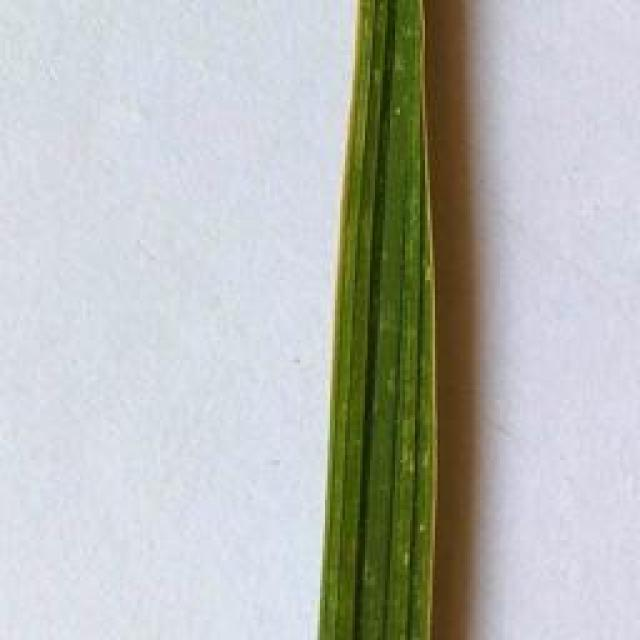Bacterial_Blight: (303, 0, 466, 640)
